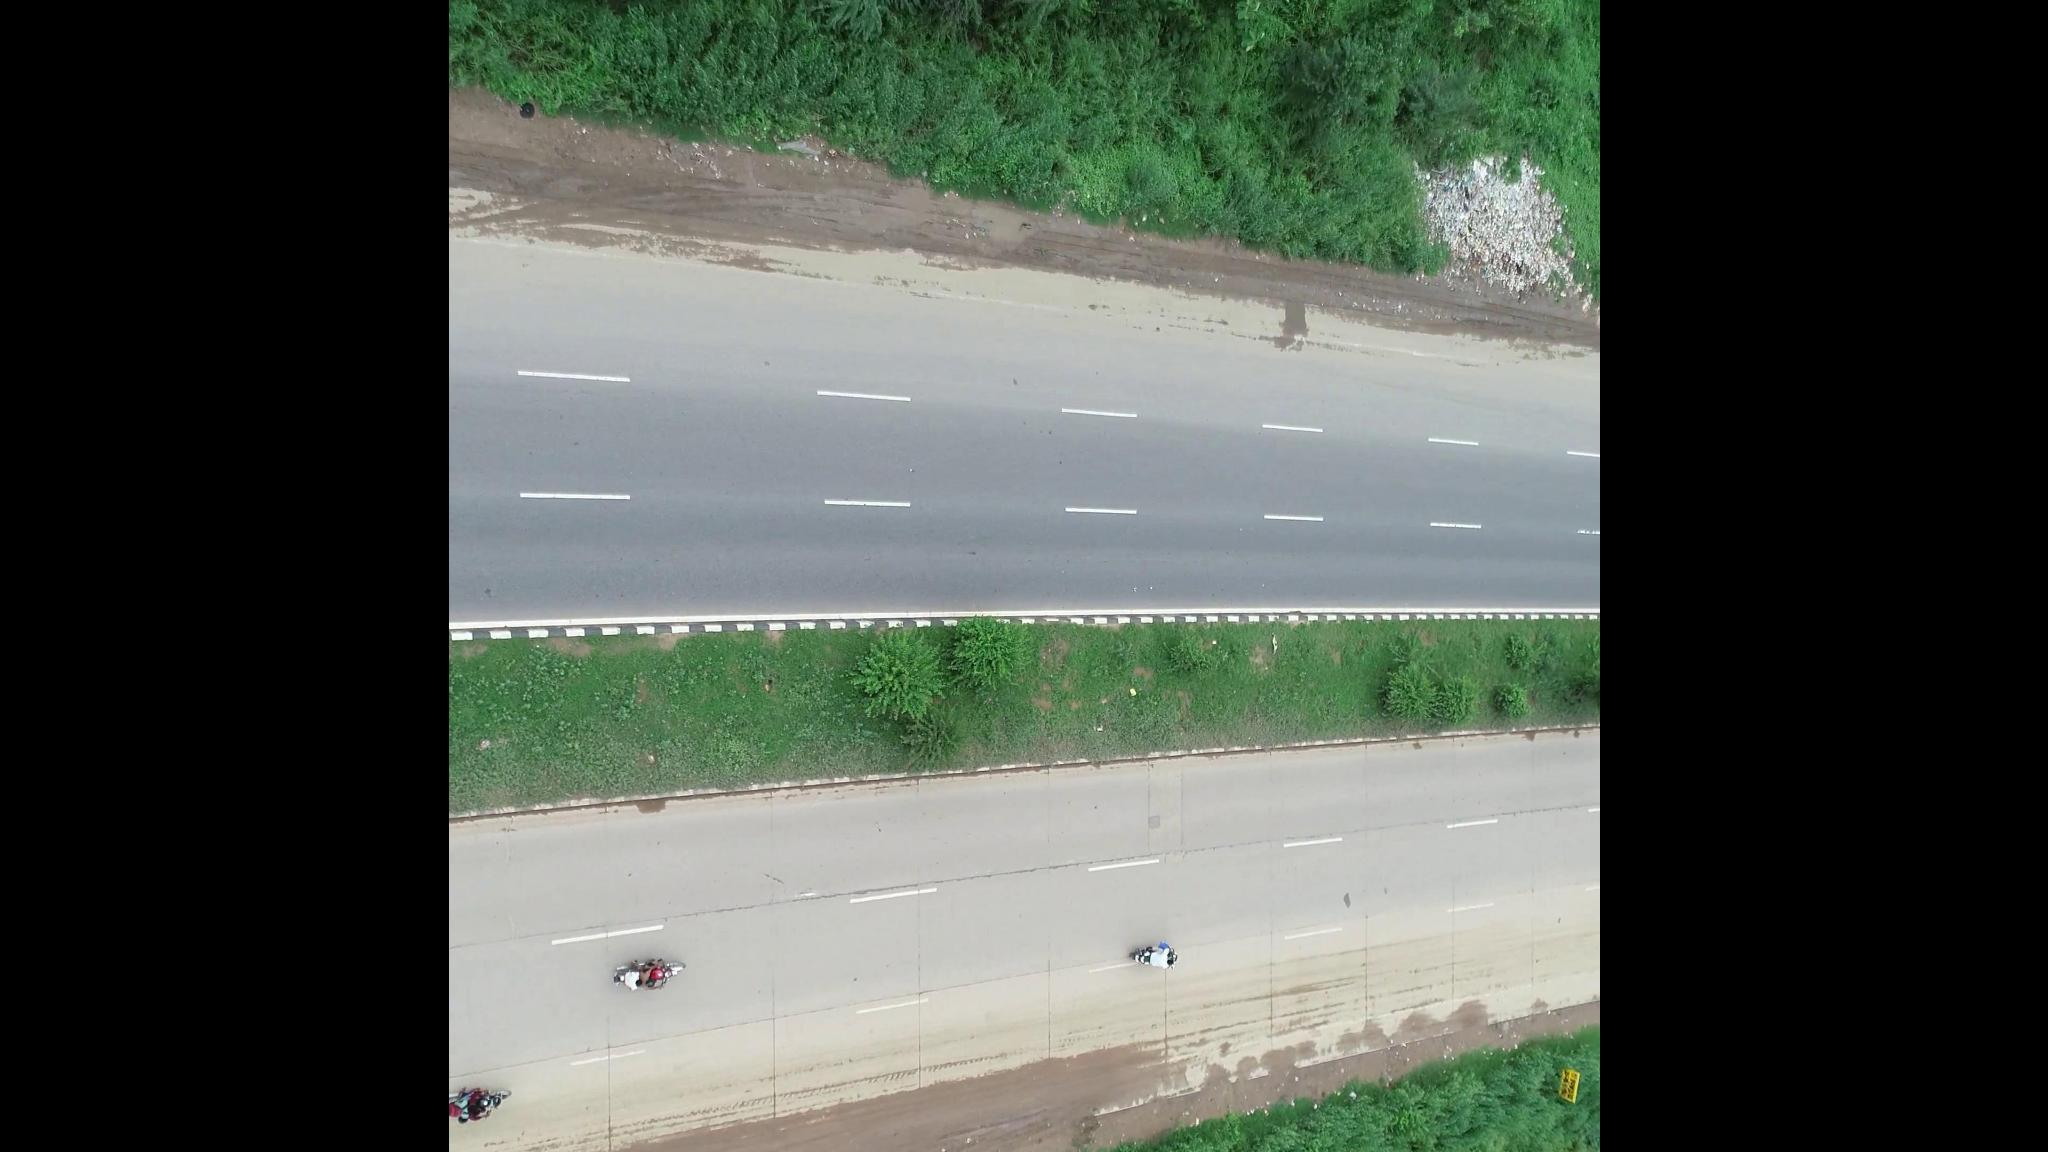Road_side_garbage: (1401, 165, 1587, 309)
